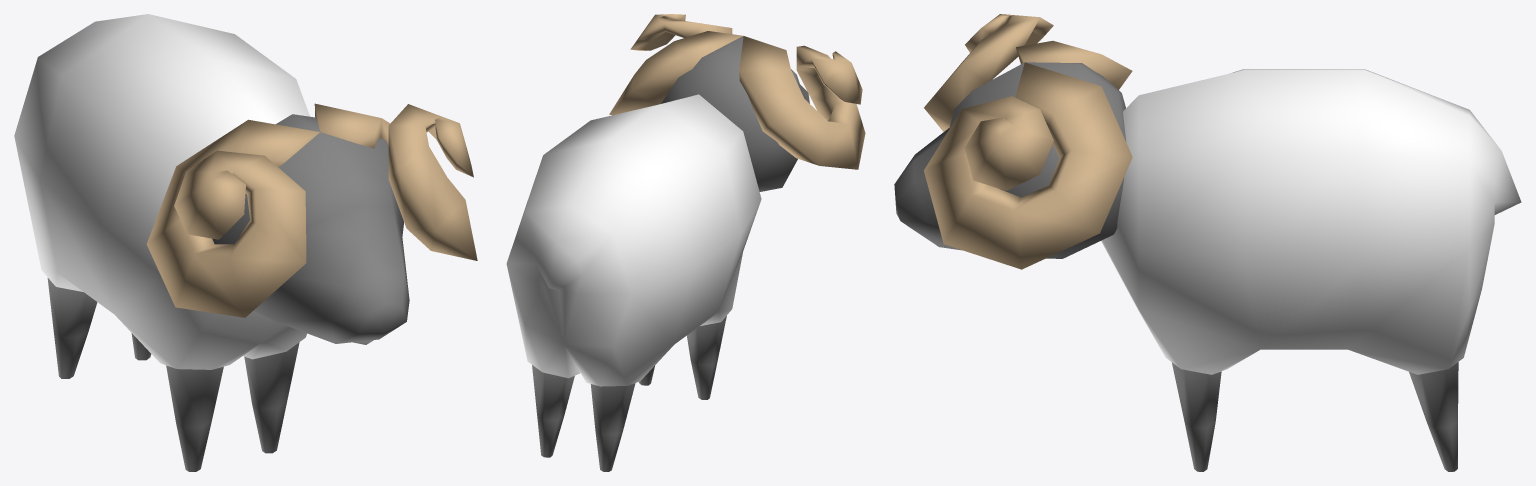
File: rameses.obj
3 renders of one model, left to right at view 1: azimuth 30°, elevation 25°; view 2: azimuth 150°, elevation 25°; view 3: azimuth 270°, elevation 25°, orthographic. The views are drawn at different scales.
Parts seen in each view (by area): view 1: group_4_ID30, group_1_ID5, group_3_ID21, group_2_ID14, group_4; view 2: group_4_ID30, group_1_ID5, group_4, group_3_ID21, group_2_ID14; view 3: group_4_ID30, group_2_ID14, group_3_ID21, group_1_ID5, group_4.
Boxes of the visible parts, <box> form: group_4_ID30: <box>14,14,309,369</box>; group_1_ID5: <box>146,119,319,317</box>; group_3_ID21: <box>212,114,409,344</box>; group_2_ID14: <box>314,103,477,260</box>; group_4: <box>47,278,299,471</box>; group_4_ID30: <box>506,94,761,386</box>; group_1_ID5: <box>739,36,865,169</box>; group_4: <box>532,316,726,471</box>; group_3_ID21: <box>661,36,809,191</box>; group_2_ID14: <box>609,14,743,115</box>; group_4_ID30: <box>1101,69,1521,374</box>; group_2_ID14: <box>924,62,1132,269</box>; group_3_ID21: <box>894,62,1126,258</box>; group_1_ID5: <box>924,14,1132,131</box>; group_4: <box>1172,362,1458,471</box>.
Bounding box in the file's own units: 0.7385 × 0.9466 × 1.39.
